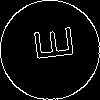E: (25, 25, 74, 64)
